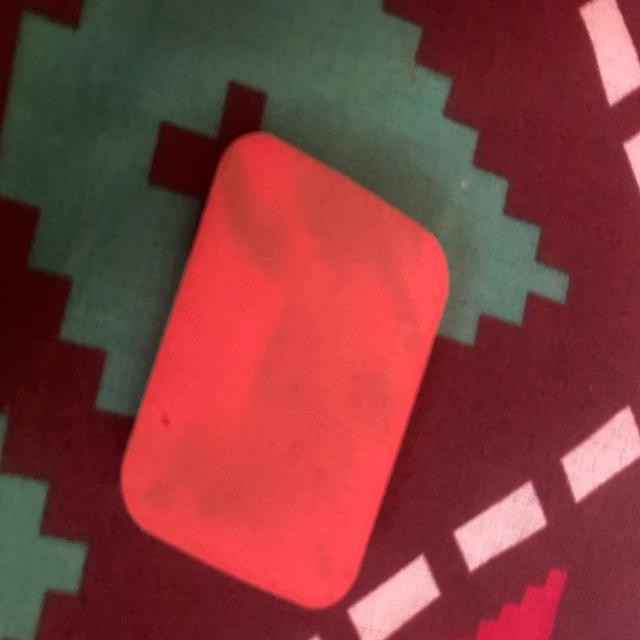beauty blender: (115, 123, 487, 618)
